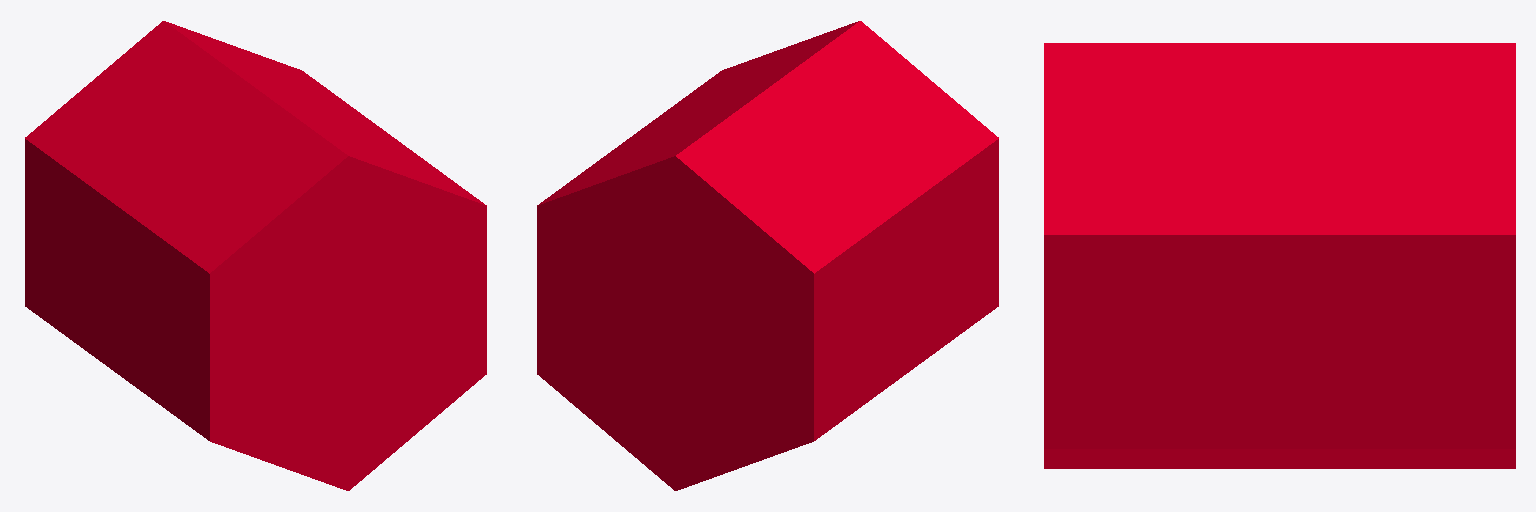
URDF robot description (hexagonal_prism.urdf):
<?xml version="1.0" ?>
<robot name="hexagonal_prism.urdf">

  <link name="hexagonal_prism">
    <contact>
    	<friction_anchor/>
    	   <lateral_friction value="1.0"/>
    </contact>
    <inertial>
      <origin rpy="0 0 0" xyz="0 0 0"/>
       <mass value=".1"/>
       <inertia ixx="1" ixy="0" ixz="0" iyy="1" iyz="0" izz="1"/>
    </inertial>
    <visual>
      <origin rpy="0 0 0" xyz="0 0 0"/>
      <geometry>
				<mesh filename="hexagonal_prism.obj" scale="1.0 1.0 1.0"/>
      </geometry>
       <material name="red">
        <color rgba="0.9 0 0.2 1.0"/>
      </material>
    </visual>
    <collision>
      <origin rpy="0 0 0" xyz="0 0 0"/>
      <geometry>
				<mesh filename="hexagonal_prism.obj" scale="1.0 1.0 1.0"/>
      </geometry>
    </collision>
  </link>


</robot>

--- What the picture shows (computed from the rendered views, not written in the file) ---
3 views of the same robot in one strip: view 1: azimuth 30°, elevation 25°; view 2: azimuth 150°, elevation 25°; view 3: azimuth 270°, elevation 25° (orthographic).
Model hexagonal_prism.urdf with 1 links and 0 joints (none), rooted at hexagonal_prism, posed every joint at zero.
Visible links, largest first — view 1: hexagonal_prism; view 2: hexagonal_prism; view 3: hexagonal_prism.
Boxes of the visible links, x1,y1,x2,y2 form: hexagonal_prism: (25,21,486,490); hexagonal_prism: (537,21,998,490); hexagonal_prism: (1044,43,1515,468).
Size in the robot's own frame: 0.0866 by 0.1 by 0.1 metres.
Meshes: 1 distinct files referenced, 1 mesh visuals loaded (1 OBJ).